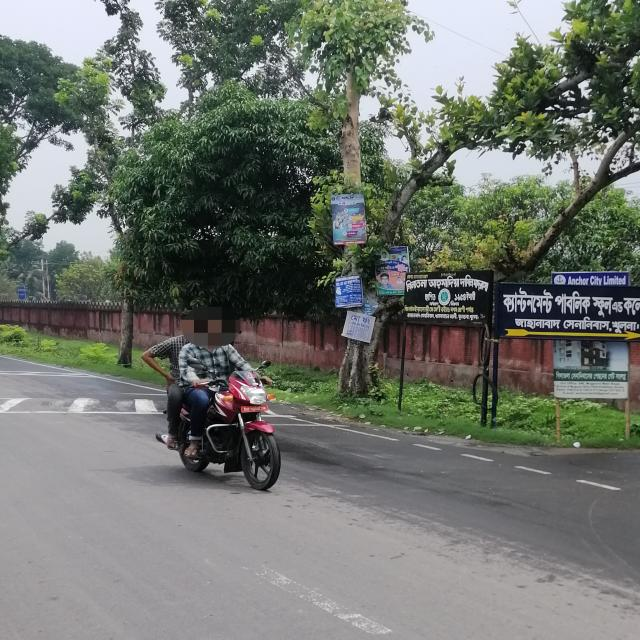Motorbike: (156, 348, 292, 483)
